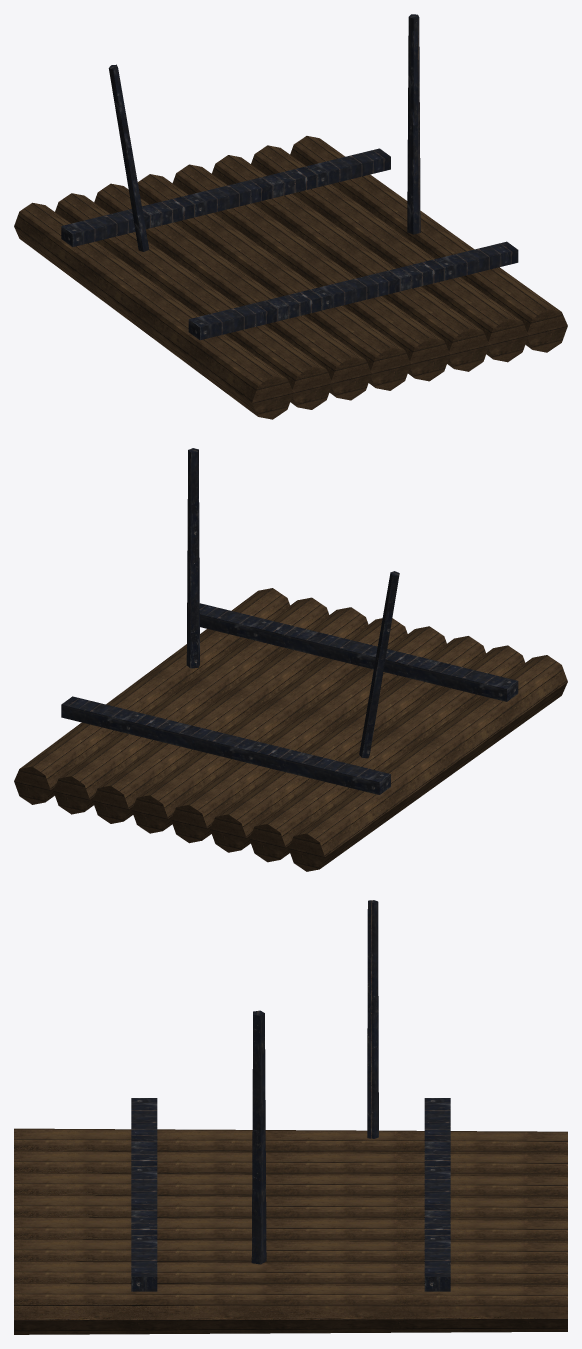
Rendered from raft_01.glb.
The picture shows the model from 3 angles, top to bottom: view 1: azimuth 30°, elevation 25°; view 2: azimuth 150°, elevation 25°; view 3: azimuth 270°, elevation 25°; orthographic projection. The views are drawn at different scales.
Visible parts, largest first — view 1: raft_01; view 2: raft_01; view 3: raft_01.
Boxes of the visible parts, box(x1,y1,x2,y2) form: raft_01: box(14, 14, 567, 419); raft_01: box(14, 448, 567, 871); raft_01: box(14, 900, 567, 1334).
Size of the model in its own units: 2.6 by 2.07 by 3.4.
Materials: 2 (2 with a texture image).
